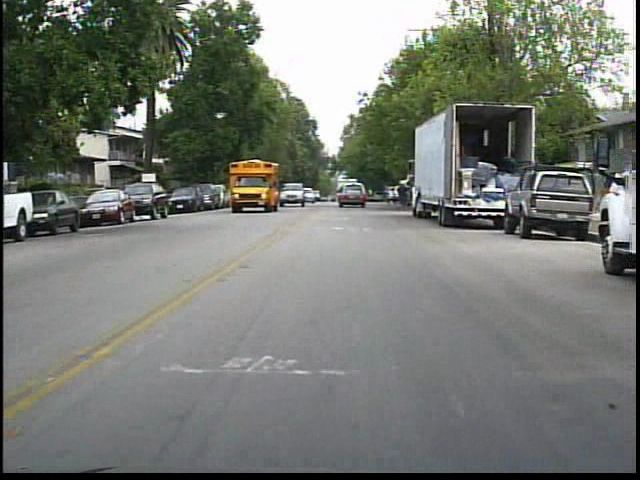person: (394, 176, 414, 217)
